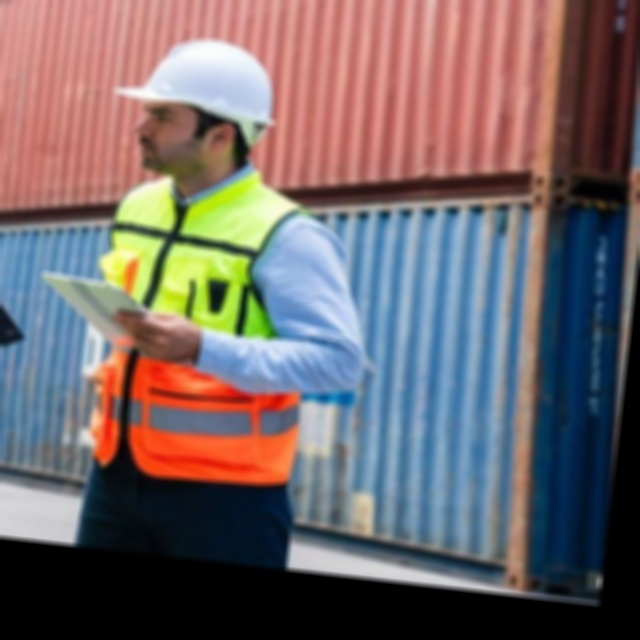Con_Casco: (104, 29, 281, 183)
Con_Chaleco: (84, 169, 325, 489)
